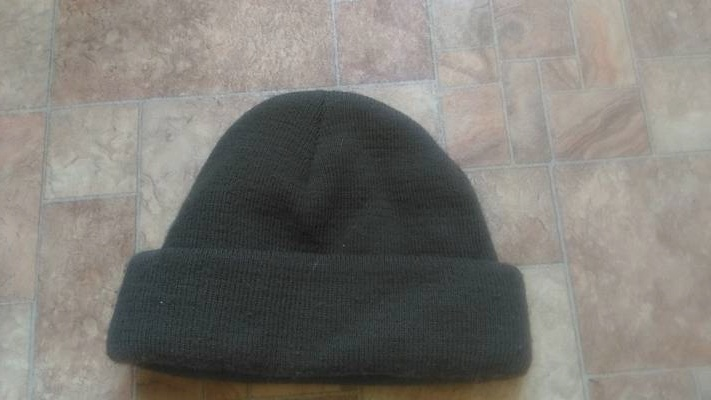Hat: (93, 87, 533, 384)
